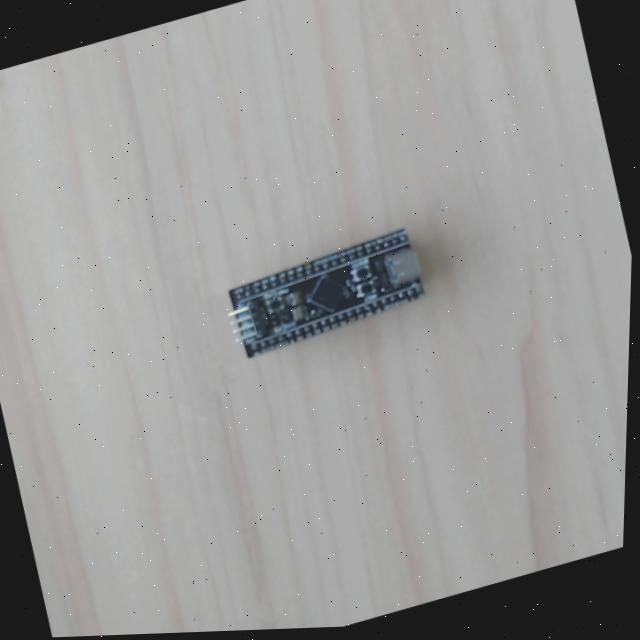STM32-Blackpill: (221, 227, 427, 359)
